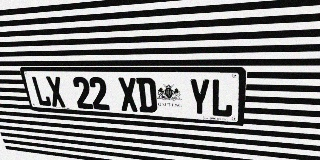2: (88, 77, 110, 110), (72, 77, 93, 109)
D: (136, 78, 158, 113)
L: (211, 79, 234, 118), (31, 76, 52, 107)
X: (117, 77, 139, 112), (45, 76, 67, 108)
Y: (189, 78, 210, 116)
